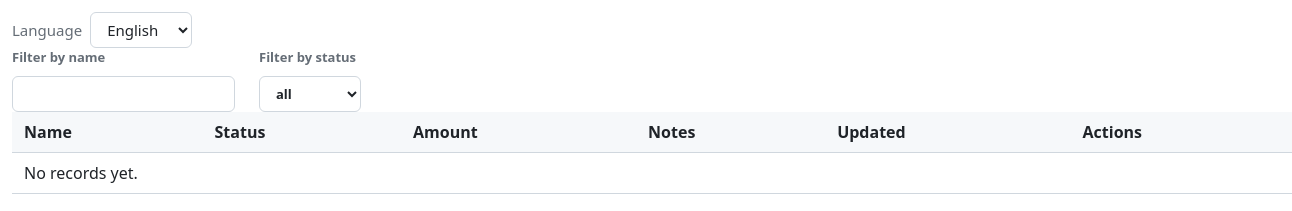
Test case: DAN-95 · the language selector › repaints the surrounding UI immediately when toggled, and back again
expect the text "No records yet." is shown: met, box x1=12 y1=152 x2=1291 y2=193
expect the column heading "Amount" is shown: met, box x1=401 y1=112 x2=636 y2=152
Select "Español" in the dropdown labelled "Language" at {"x": 141, "y": 30}, box x1=90 y1=12 x2=192 y2=48
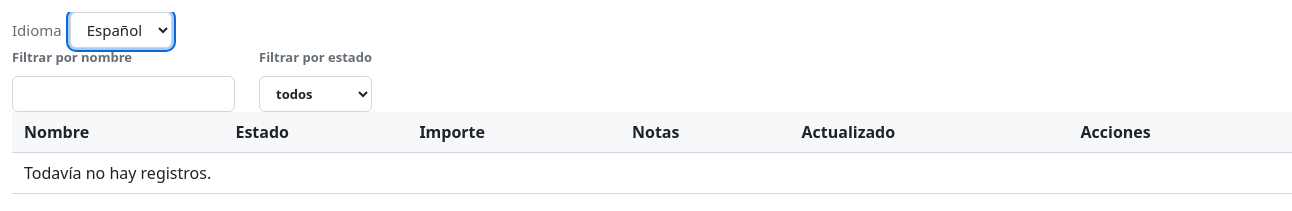
expect the text "Todavía no hay registros." is shown: met, box x1=12 y1=152 x2=1291 y2=193
expect the column heading "Importe" is shown: met, box x1=407 y1=112 x2=620 y2=152
expect the text "No records yet." is gone: met
# And the switch is reversible from the now-Spanish control.
Select "English" in the dropdown labelled "Idioma" at {"x": 121, "y": 30}, box x1=70 y1=12 x2=172 y2=48
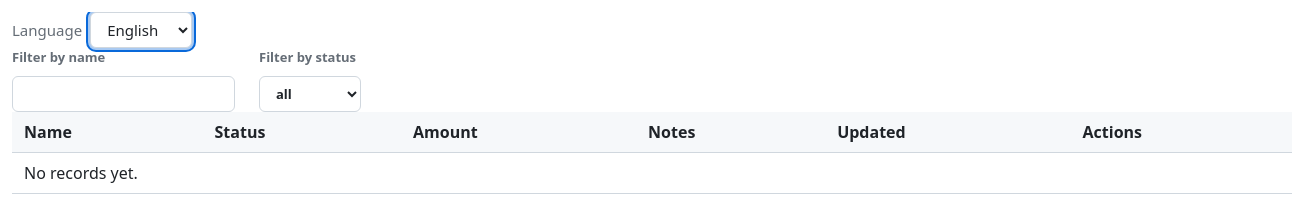
expect the text "No records yet." is shown: met, box x1=12 y1=152 x2=1291 y2=193
